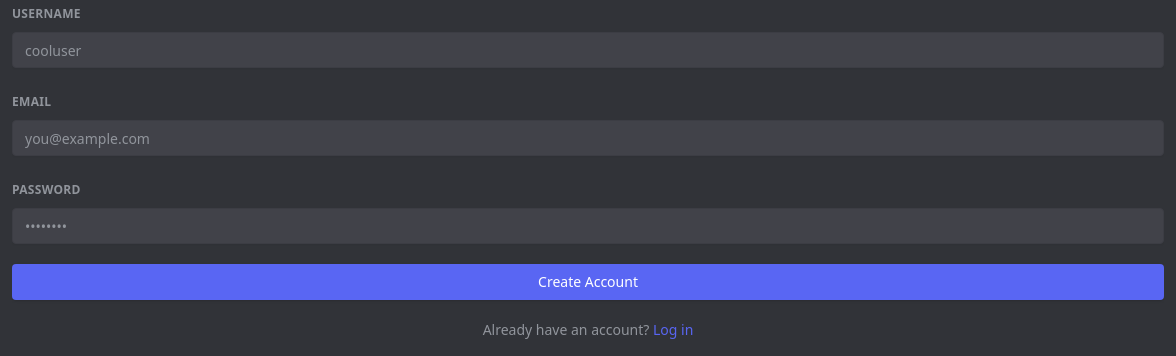
Scenario: RegisterForm › disables button and shows loading text while submitting
Step 1. Type "alice" into the field labelled "Username" → [588, 50], box [12,32,1164,68]
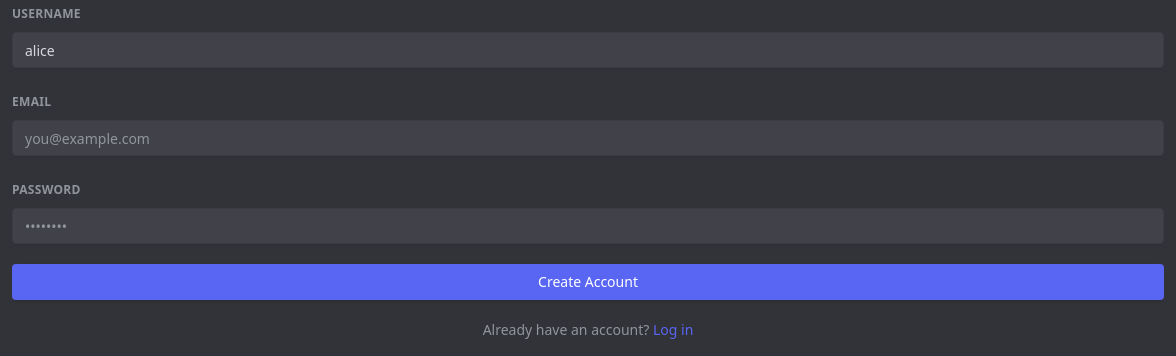
Step 2. Type "alice@test.com" into the field labelled "Email" → [588, 138], box [12,120,1164,156]
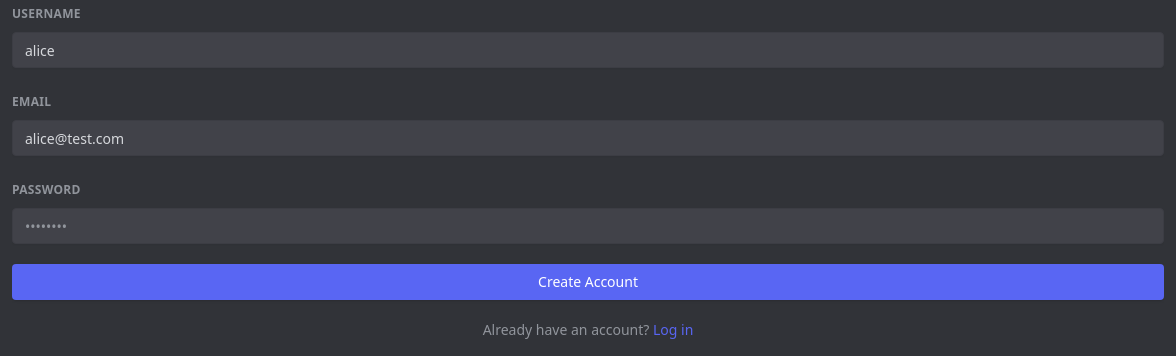
Step 3. Type "Password123!" into the password field labelled "Password" → [588, 226], box [12,208,1164,244]
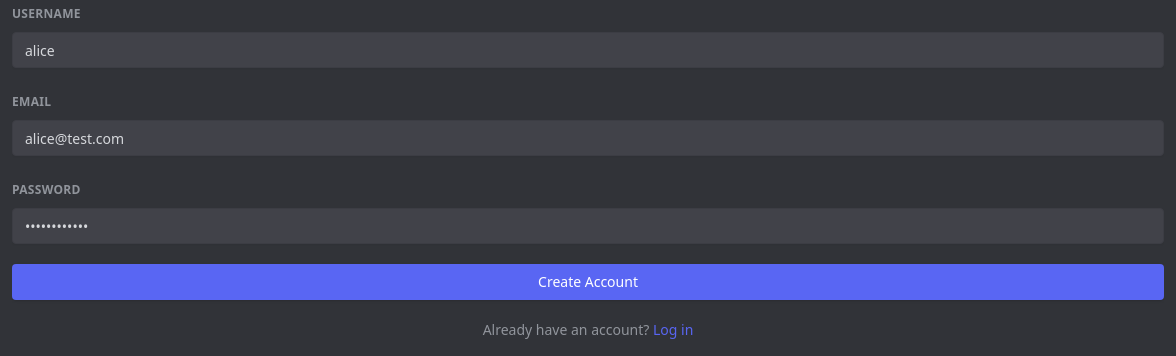
Step 4. Click the button "Create Account" → [588, 282], box [12,264,1164,300]
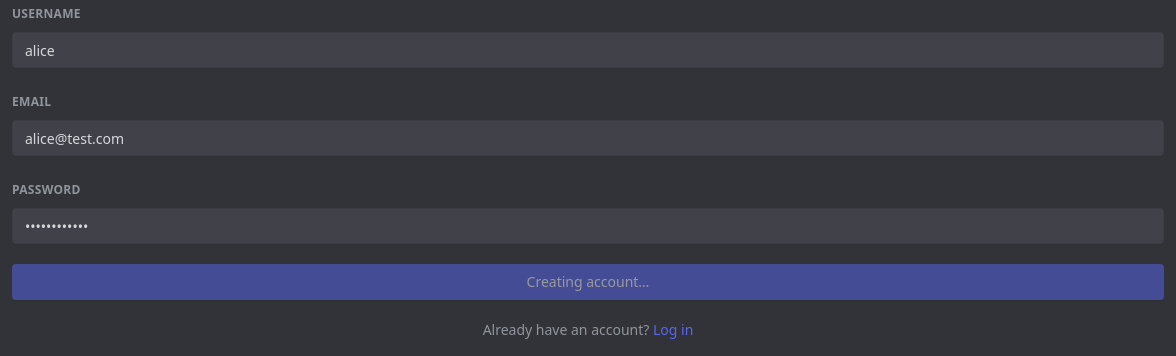
Result: the button "Creating account…" is disabled at [12,264,1164,300]
